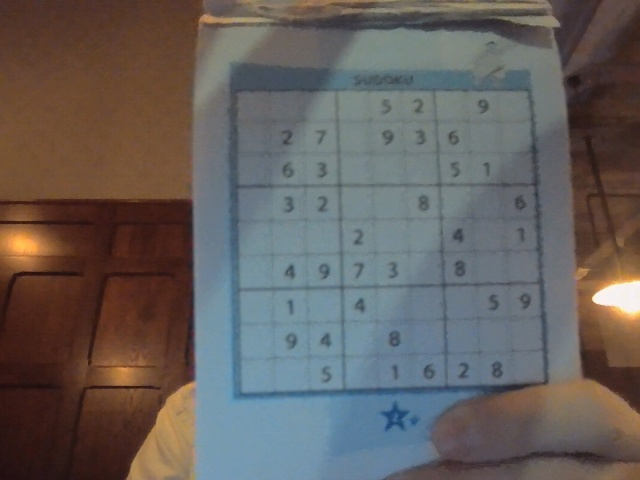eight: (453, 260, 466, 278), (388, 330, 400, 349), (418, 195, 429, 212), (492, 361, 502, 379)
five: (378, 94, 394, 117), (320, 364, 334, 386), (487, 292, 501, 312), (449, 161, 462, 180)
four: (282, 262, 298, 282), (319, 331, 332, 350), (353, 296, 367, 313), (452, 227, 464, 245)
grid: (237, 90, 548, 388)
nine: (285, 332, 298, 351), (382, 130, 394, 146), (318, 263, 329, 279), (478, 99, 489, 114), (520, 293, 530, 308)
one: (390, 362, 401, 382), (287, 298, 295, 316), (518, 226, 526, 243), (484, 161, 492, 178)
seven: (314, 129, 328, 146), (353, 262, 364, 281)
six: (280, 161, 299, 179), (513, 193, 528, 212), (422, 364, 436, 381), (447, 130, 460, 145)
three: (387, 260, 400, 281), (282, 195, 296, 214), (412, 129, 426, 145), (316, 161, 327, 178)
two: (279, 126, 295, 147), (455, 361, 471, 380), (315, 196, 330, 213), (412, 96, 425, 115), (352, 228, 364, 247)
zero: (234, 220, 271, 254), (406, 322, 445, 354), (306, 217, 340, 252), (235, 290, 270, 324), (371, 184, 408, 216), (335, 123, 372, 154), (234, 188, 271, 219), (234, 124, 272, 154), (476, 319, 510, 352), (376, 217, 408, 252), (437, 185, 471, 217), (510, 318, 542, 352), (343, 322, 377, 354), (406, 287, 441, 318), (334, 90, 371, 119), (237, 328, 274, 357), (501, 121, 532, 155), (272, 222, 303, 255), (444, 286, 475, 319), (406, 253, 440, 283), (433, 91, 468, 120), (474, 184, 505, 216), (444, 320, 476, 351), (340, 154, 373, 184), (343, 355, 376, 385), (235, 155, 269, 184), (376, 284, 405, 318), (498, 89, 529, 120), (474, 250, 505, 281), (274, 359, 305, 390), (469, 123, 501, 153), (404, 154, 437, 183), (308, 292, 339, 322), (239, 259, 270, 288), (505, 152, 533, 184), (340, 187, 373, 214), (408, 222, 438, 251), (239, 95, 270, 123), (240, 362, 271, 390), (301, 94, 333, 121), (372, 155, 402, 182), (510, 357, 539, 384), (272, 95, 301, 121), (474, 221, 503, 246), (512, 249, 538, 276)
